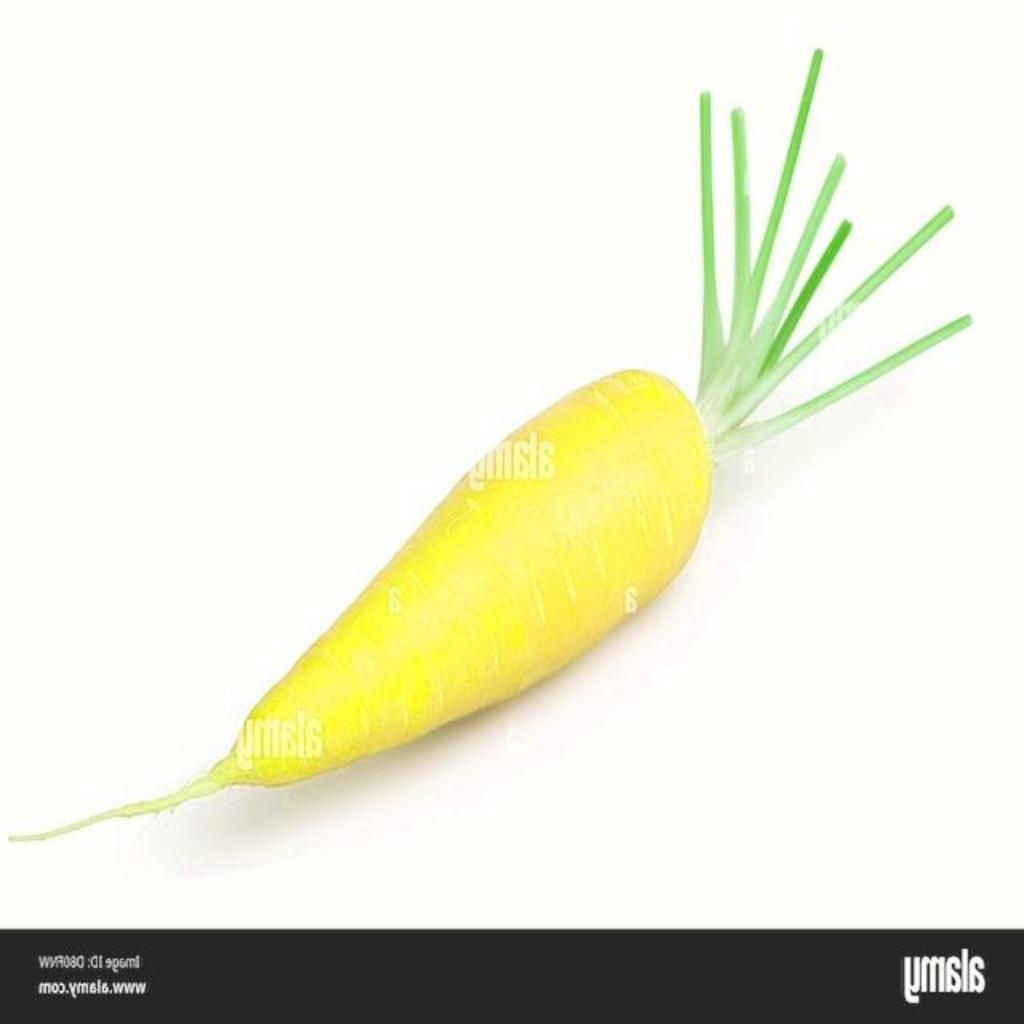carrot: (12, 50, 972, 842)
